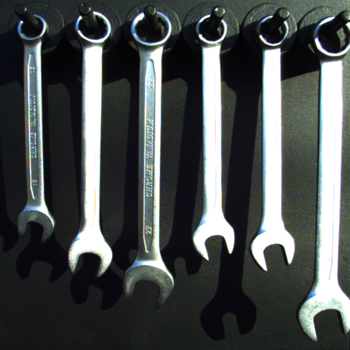bottom: (117, 260, 176, 312), (296, 287, 350, 342), (244, 226, 299, 273), (187, 217, 237, 263), (65, 235, 114, 278), (12, 203, 58, 244)
top: (128, 9, 175, 52), (311, 13, 350, 63), (71, 8, 115, 48), (255, 12, 290, 48), (14, 11, 51, 45), (194, 13, 229, 47)
